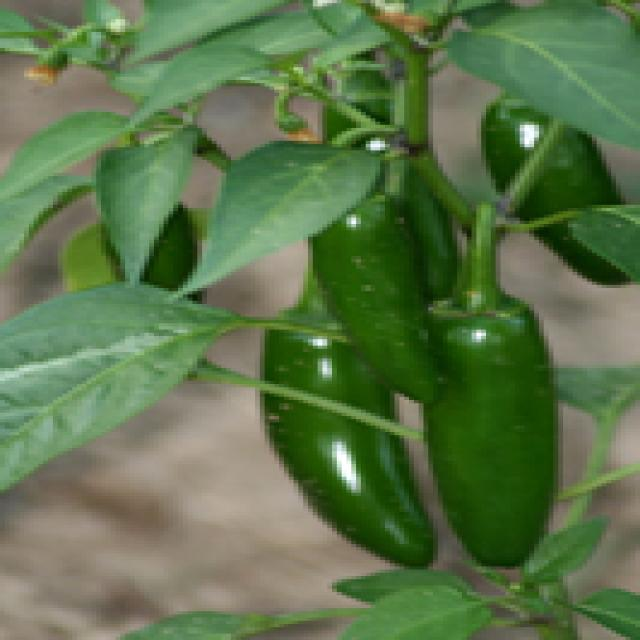aji: (260, 307, 452, 565), (433, 293, 582, 574), (337, 221, 445, 406)
